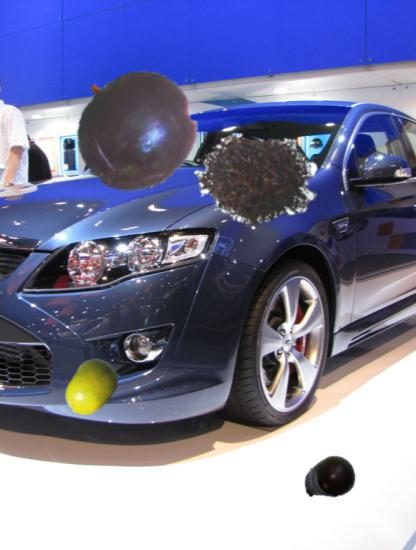Eggplant: (303, 451, 357, 505)
Passion: (72, 65, 201, 194)
Pomelo: (61, 357, 122, 418)
Rambutan: (194, 114, 320, 240)
